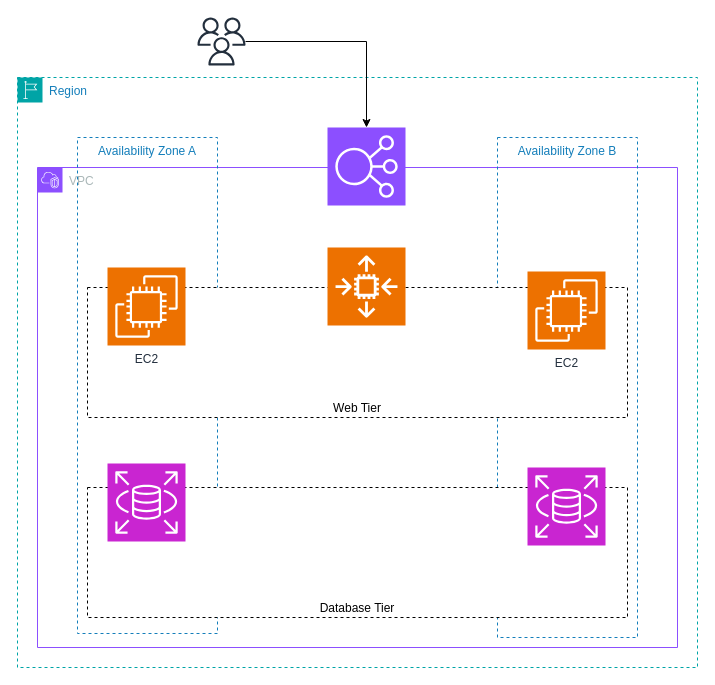
This 715x685 diagram has some shape labels left out. Here are the shapes that lost their labels. From the top down, the centre of each, then its label:
At point (366, 166): "Elastic Load Balancer".
At point (366, 286): "Auto Scaling Group".
At point (146, 502): "Primary RDS".
At point (566, 506): "Read Replica".
